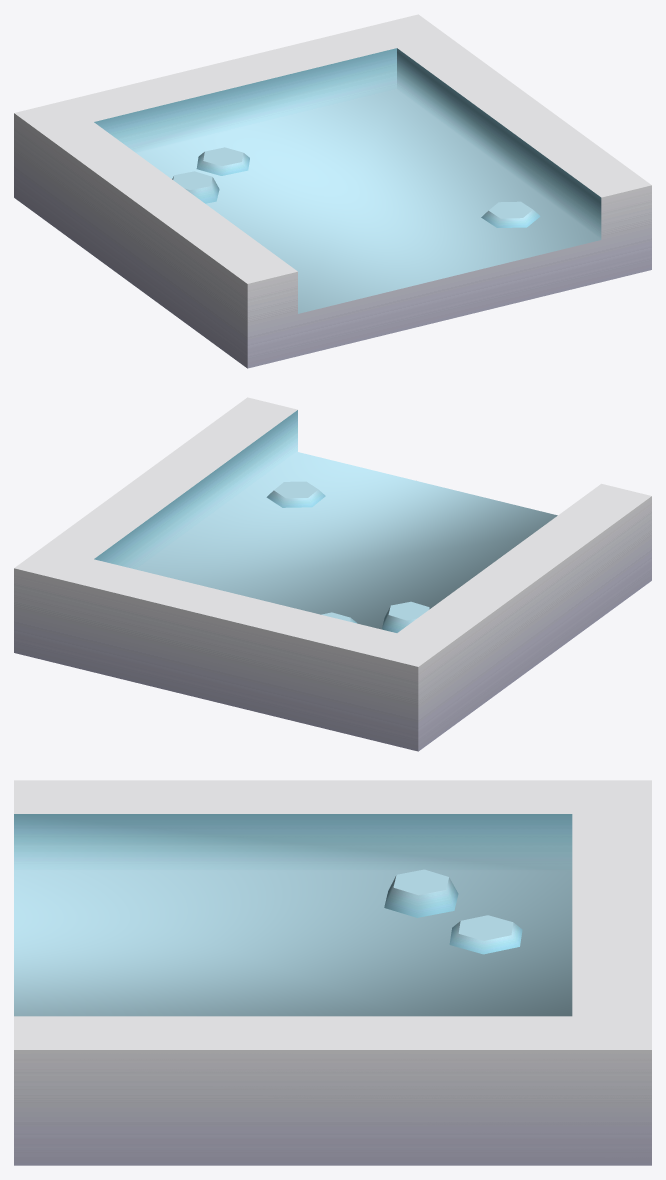
Rendered from snow-tile-end.glb.
3 views of the same model, one above another, from view 1: azimuth 30°, elevation 25°; view 2: azimuth 150°, elevation 25°; view 3: azimuth 270°, elevation 25° (orthographic). The views are drawn at different scales.
Visible parts, largest first — view 1: snow-tile-end; view 2: snow-tile-end; view 3: snow-tile-end.
Part boxes in pixels (left/top/right/bottom): snow-tile-end: left=14, top=14, right=651, bottom=368; snow-tile-end: left=14, top=397, right=651, bottom=751; snow-tile-end: left=14, top=780, right=651, bottom=1165.
Size of the model in its own units: 1 by 0.2 by 1.
Materials: 1 (1 with a texture image).
